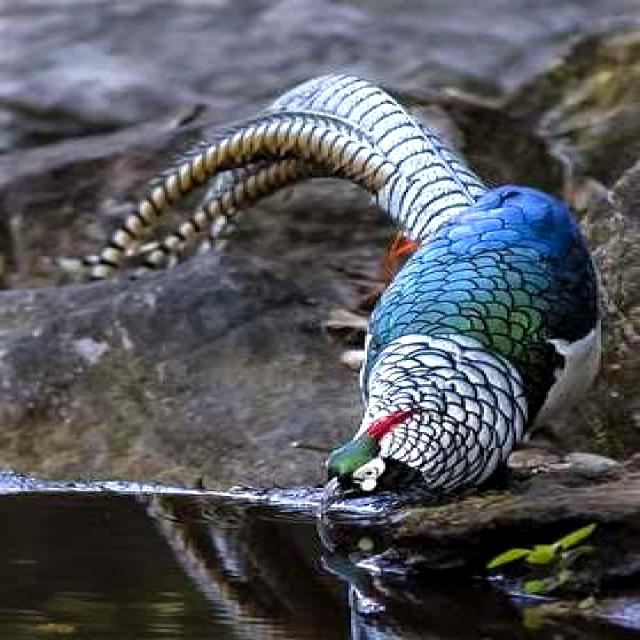Chrysolophus amherstiae: (92, 75, 482, 274)
